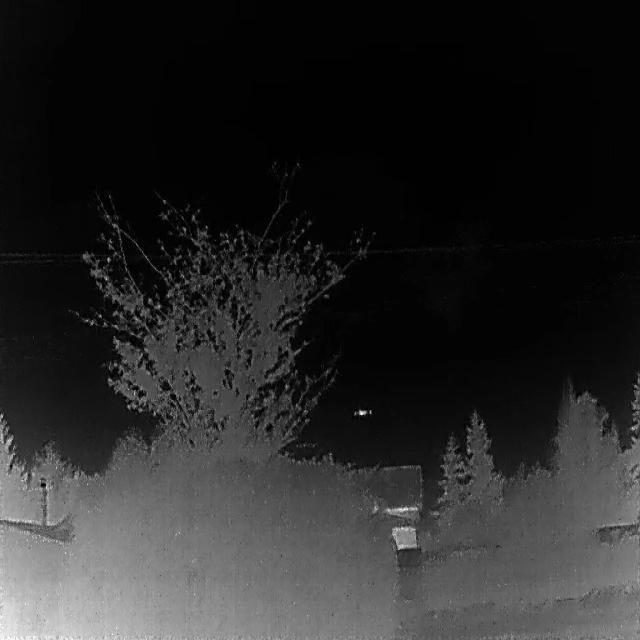drone: (352, 407, 372, 419)
